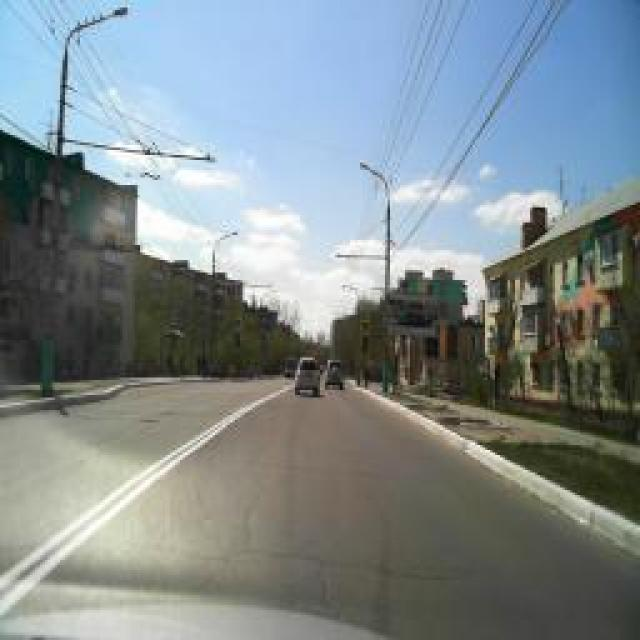sign: (360, 320, 370, 335), (234, 316, 241, 329)
